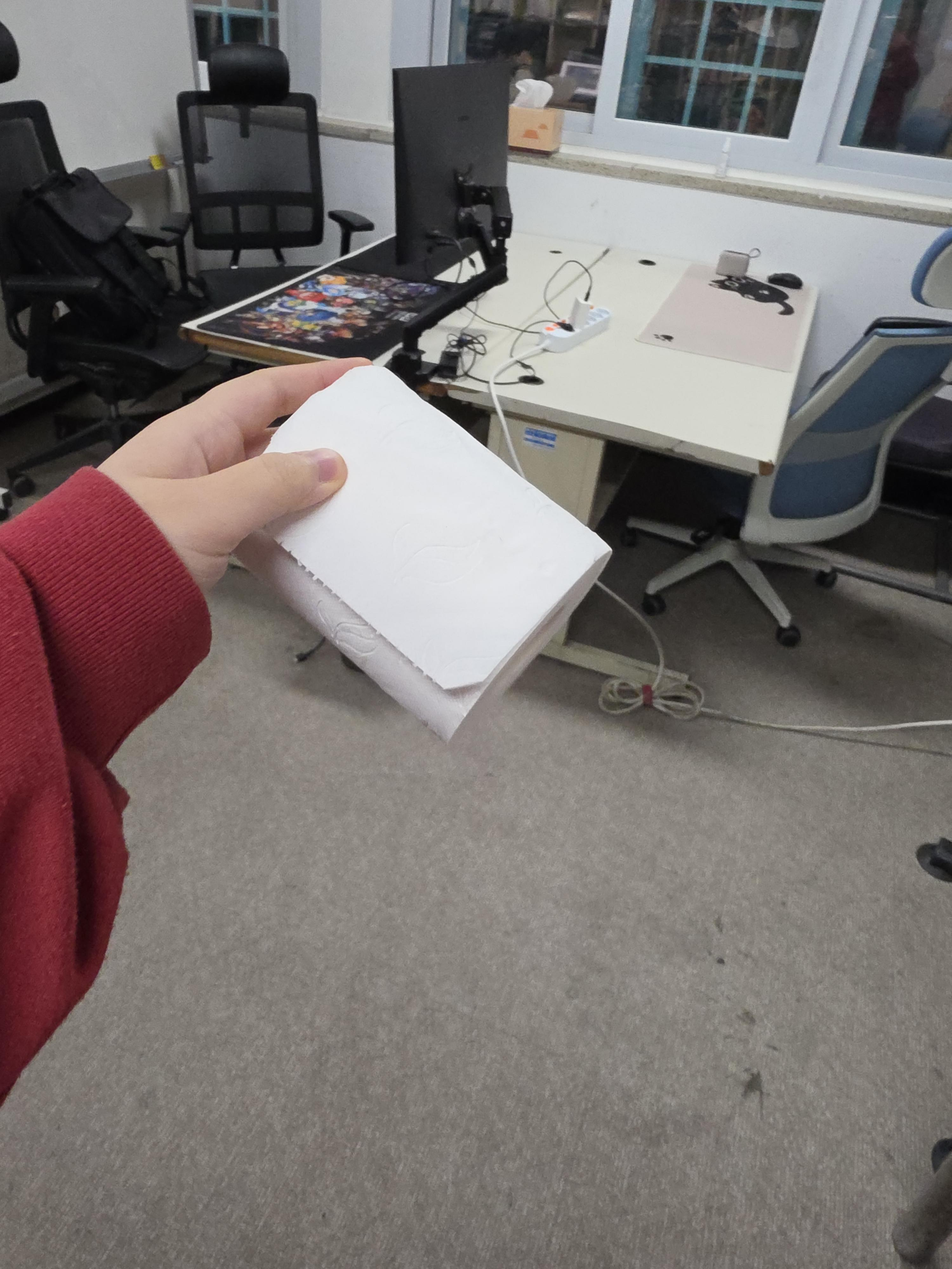tissue: (237, 364, 614, 746), (508, 78, 564, 155)
